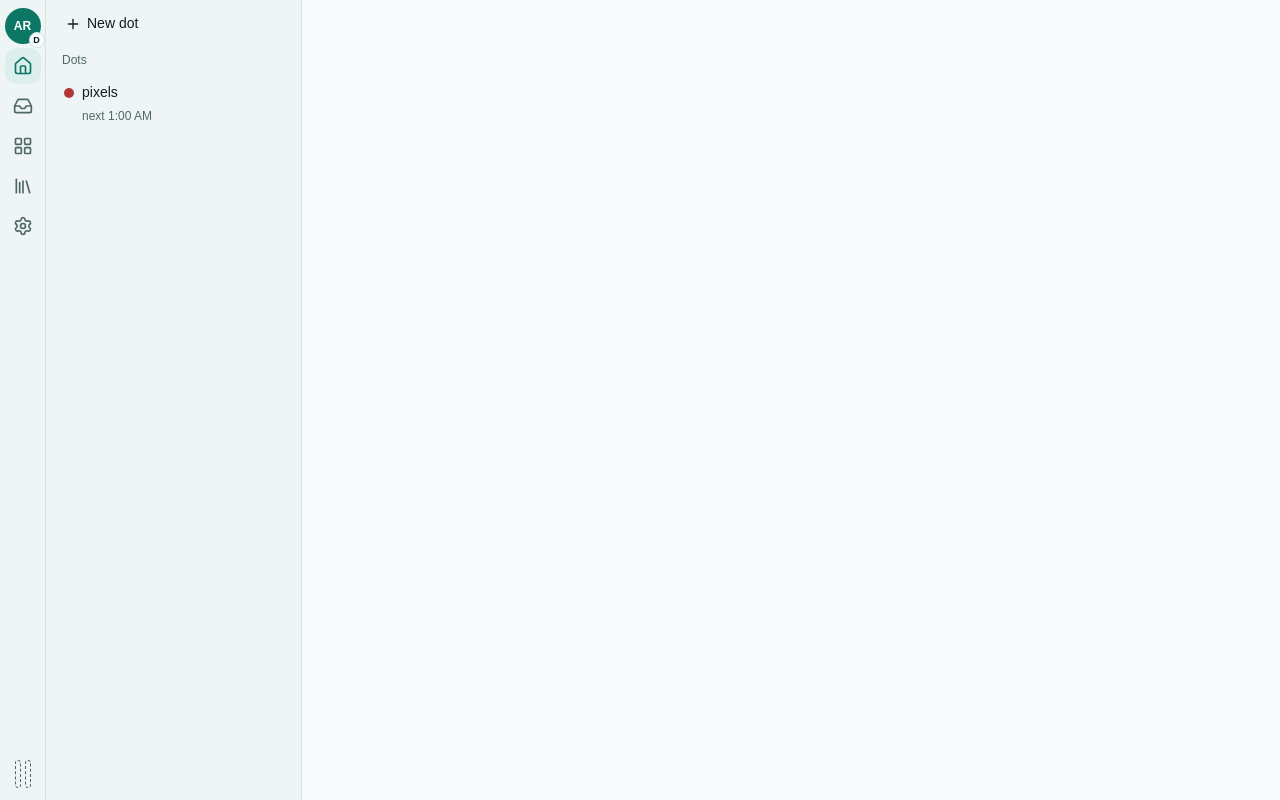
the home follows the current account › keeps an account picked while a link still waits for the joined accounts
Expected: the list item "pixels" is shown, [64,84,152,123]
Click the button with aria-label "Account:". click: click(22, 26)
box: [4,8,40,44]
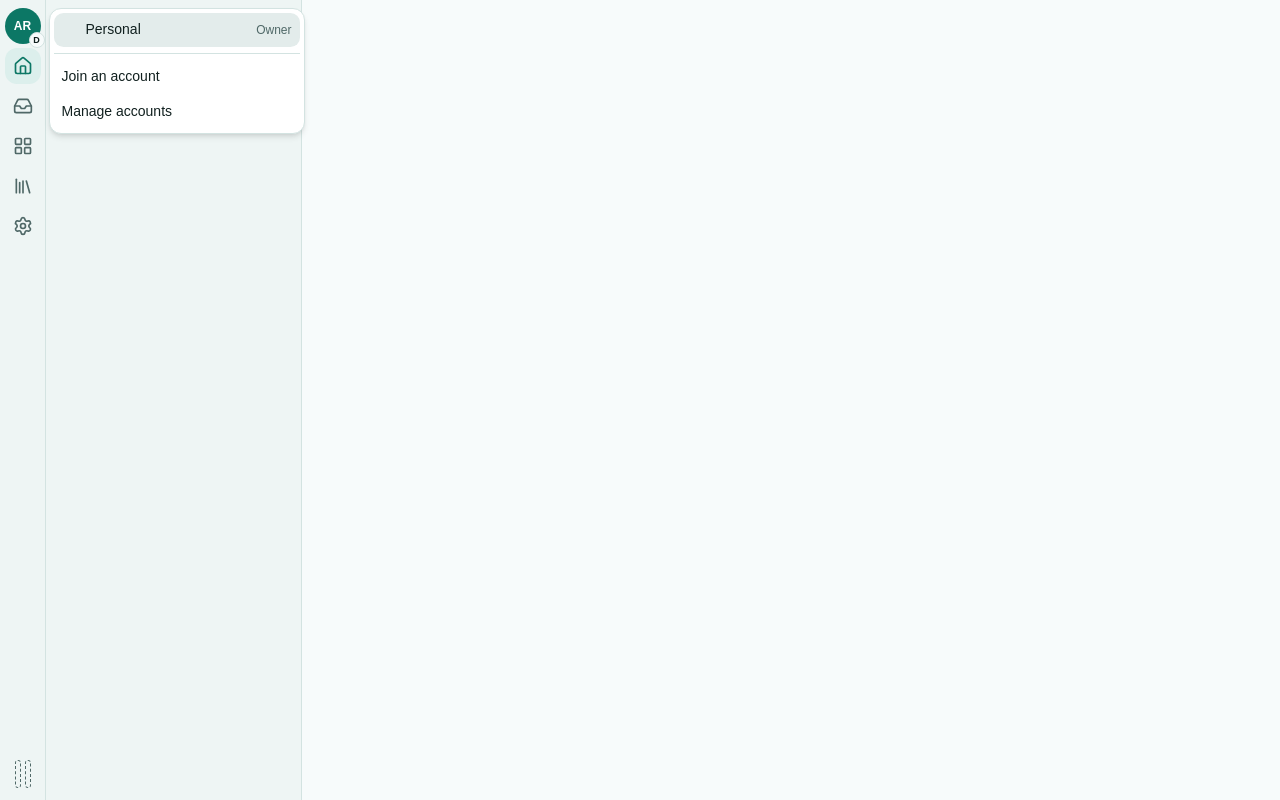
Click the menu item "Personal Owner". click: click(176, 30)
box: [54,13,300,47]
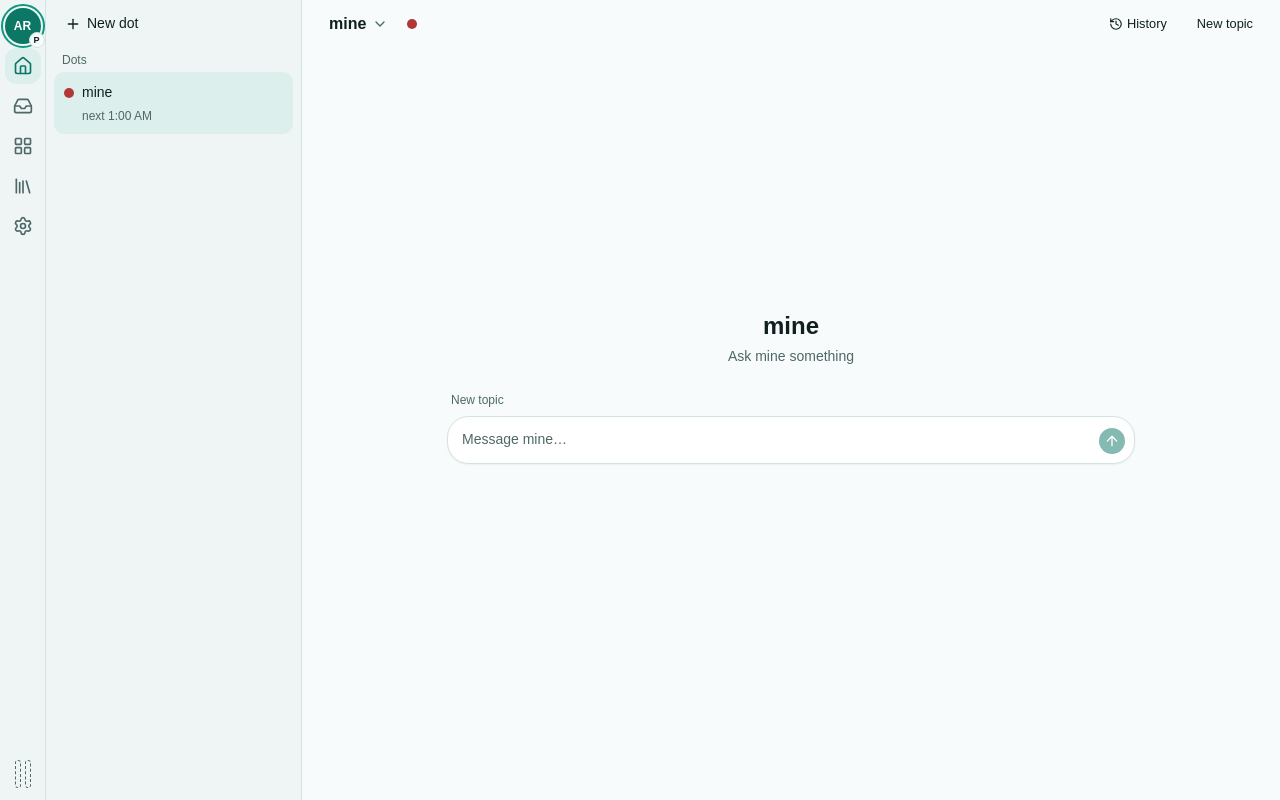
Expected: the text box labelled "Message" is shown, [456,425,1090,455]
